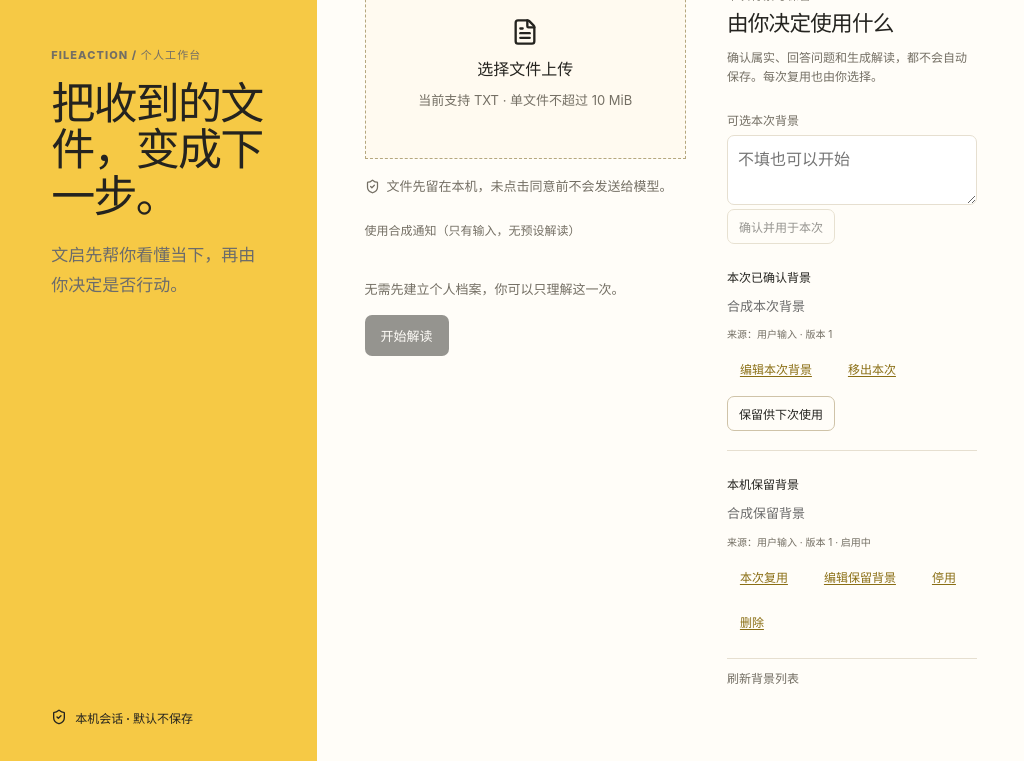
Test: 个人 MVP 前端 › 本次背景显示独立保留操作，且记忆删除需要确认
The image size is (1024, 761).
(page scrolled)
Expected: the text "合成本次背景" is shown, [727,298,805,314]
Expected: the button "保留供下次使用" is shown, [727,396,835,431]
Click the button "删除".
click(752, 621)  # box [727,604,777,639]
(page scrolled)
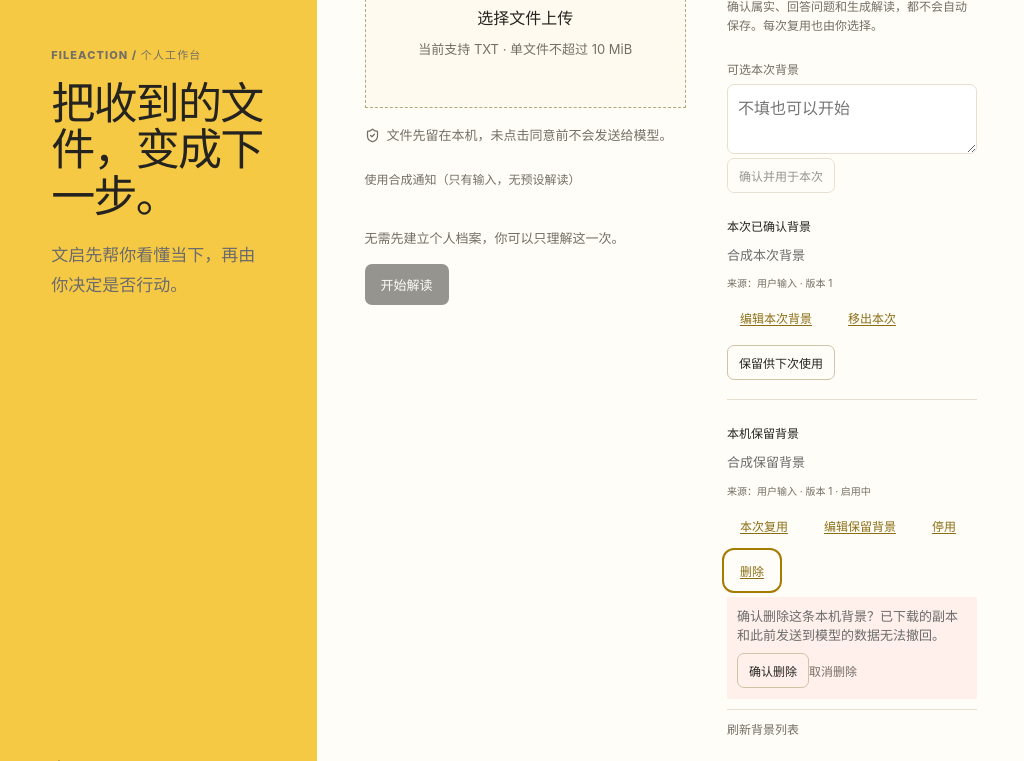
Expected: the button "确认删除" is shown, [737,653,809,688]
